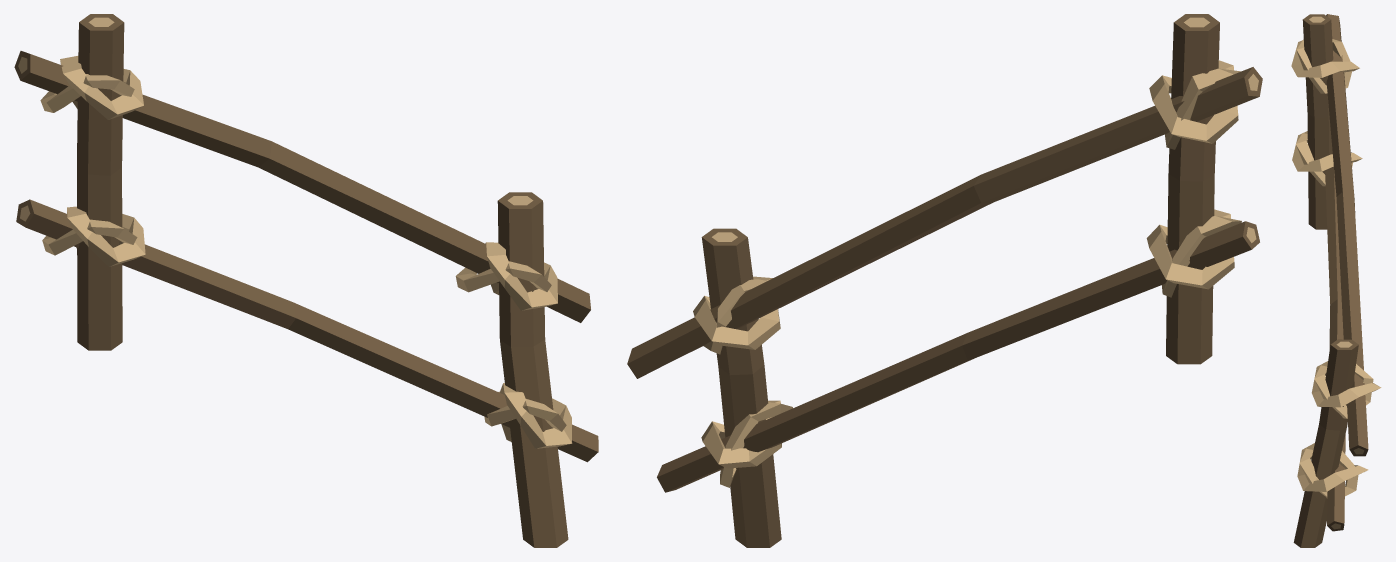
The model's file is rpgpp_ag_wall_platform_stairs_01a_2m_handrail_02.fbx.
3 renders of one model, left to right at view 1: azimuth 30°, elevation 25°; view 2: azimuth 150°, elevation 25°; view 3: azimuth 270°, elevation 25°, orthographic. The views are drawn at different scales.
Parts seen in each view (by area): view 1: rpgpp_ag_wall_platform_stairs_01a_2m_handrail_02; view 2: rpgpp_ag_wall_platform_stairs_01a_2m_handrail_02; view 3: rpgpp_ag_wall_platform_stairs_01a_2m_handrail_02.
Boxes of the visible parts, box(x1,y1,x2,y2) form: rpgpp_ag_wall_platform_stairs_01a_2m_handrail_02: box(14, 14, 598, 547); rpgpp_ag_wall_platform_stairs_01a_2m_handrail_02: box(627, 14, 1262, 547); rpgpp_ag_wall_platform_stairs_01a_2m_handrail_02: box(1291, 14, 1381, 547).
Bounding box in the file's own units: 2.83 × 2.83 × 0.5942.
